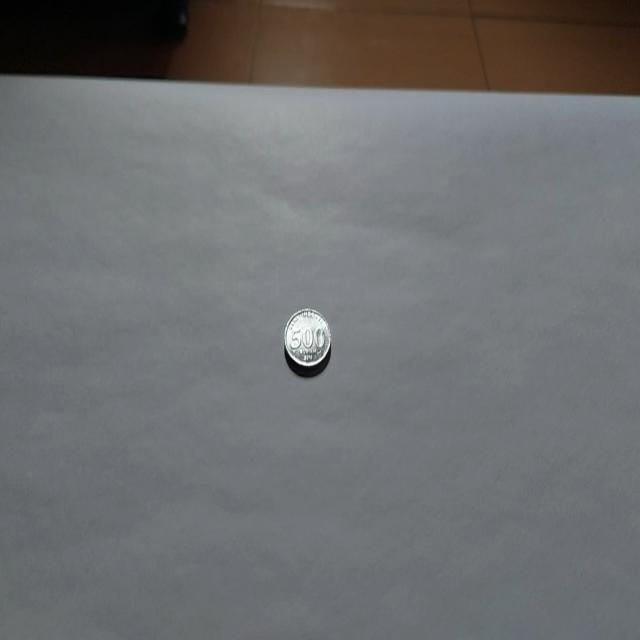lima ratus rupiah: (282, 306, 332, 376)
